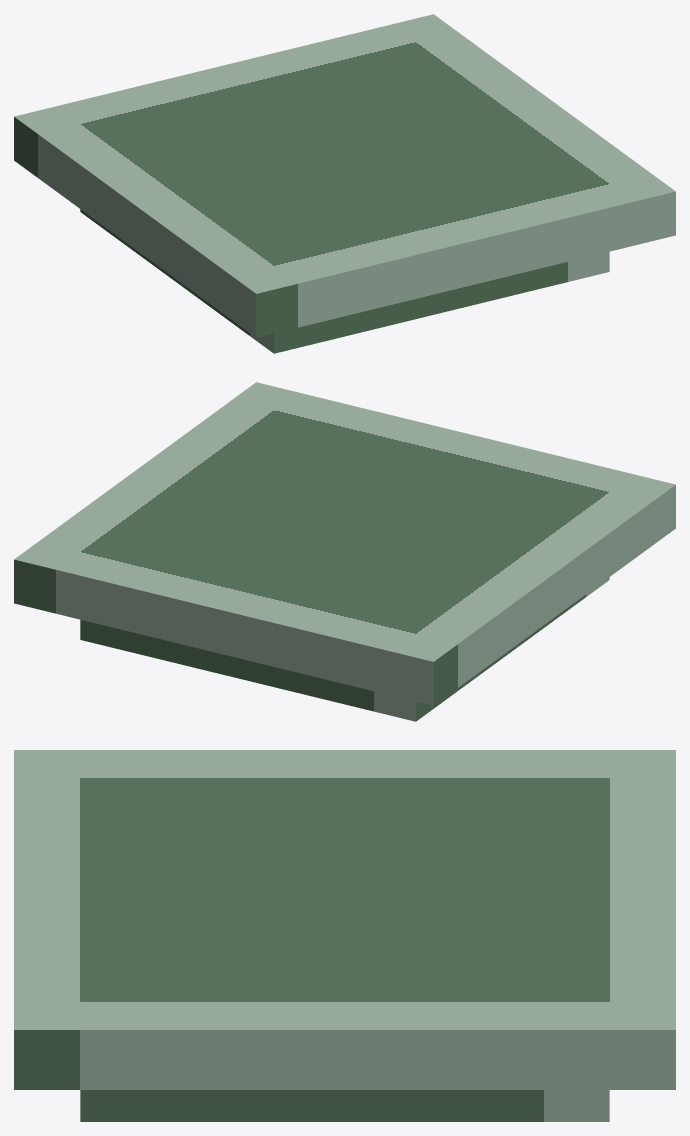
File: food_stuff_0ao.fezao.glb
3 views of the same model, one above another, from view 1: azimuth 30°, elevation 25°; view 2: azimuth 150°, elevation 25°; view 3: azimuth 270°, elevation 25° (orthographic). The views are drawn at different scales.
Visible parts, largest first — view 1: FOOD_STUFF_0AO; view 2: FOOD_STUFF_0AO; view 3: FOOD_STUFF_0AO.
Part boxes in pixels (box(x1,y1,x2,y2)): FOOD_STUFF_0AO: box(14, 14, 675, 353); FOOD_STUFF_0AO: box(14, 382, 675, 721); FOOD_STUFF_0AO: box(14, 750, 675, 1121).
Size of the model in its own units: 0.625 by 0.125 by 0.625.
Materials: 1 (1 with a texture image).
